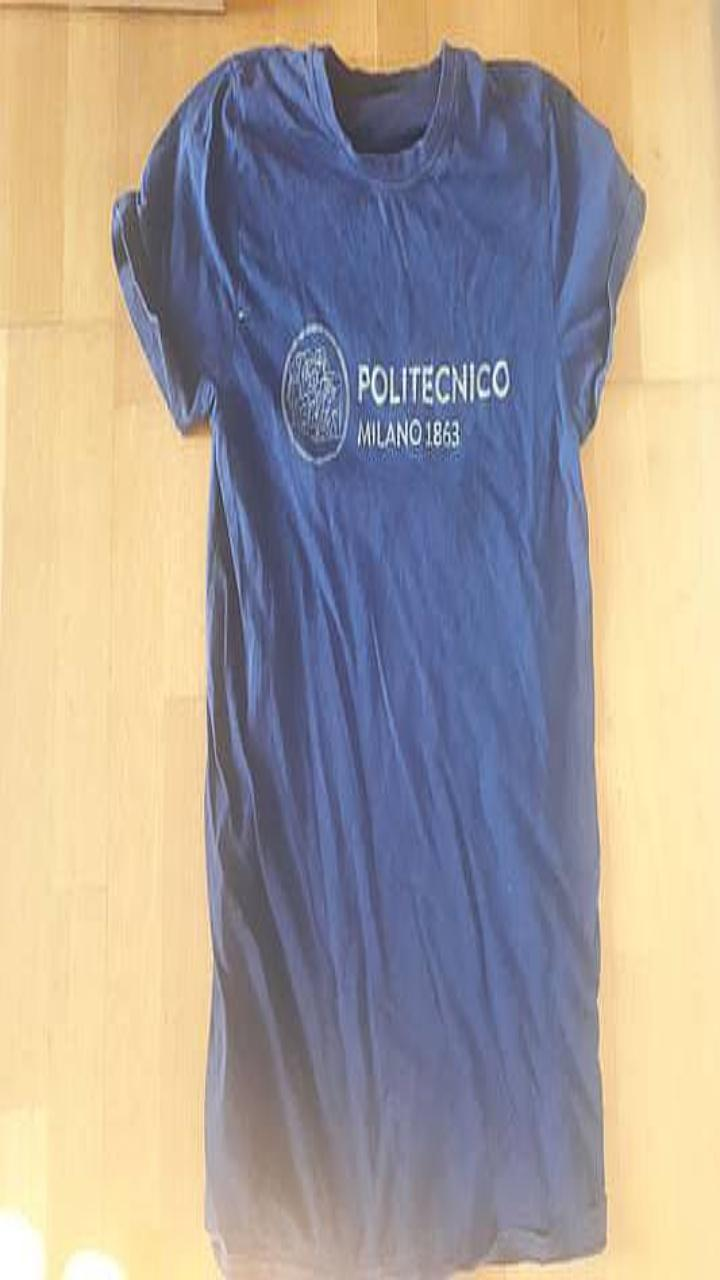T-Shirt: (111, 41, 645, 1279)
